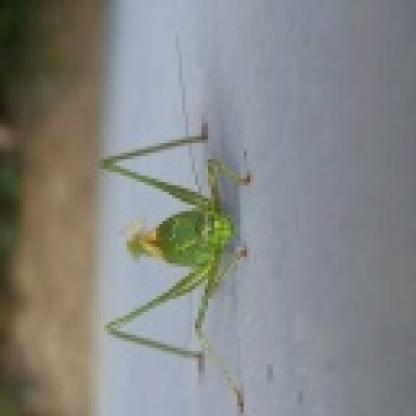grasshopper: (94, 117, 256, 373)
